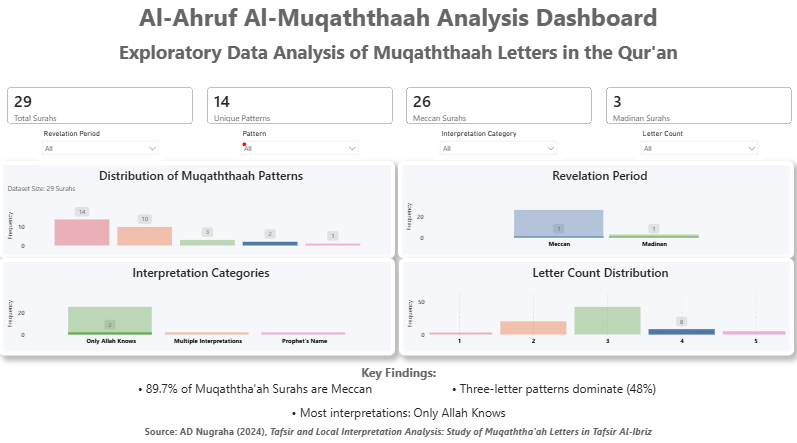

What the dashboard file says about the page in this screenshot:
{"tool":"powerbi","page":{"name":"Page 1","canvas":[1600,900],"ordinal":0},"visuals":[{"type":"clusteredColumnChart","title":"Distribution of Muqaththaah Patterns","fields":{"Category":["muqaththaah_dataset.Pattern"],"Y":["CountNonNull(muqaththaah_dataset.Pattern)"]},"box":[0.6,327.1,791.7,195],"z":0},{"type":"clusteredColumnChart","title":"Revelation Period","fields":{"Category":["muqaththaah_dataset.Revelation_Period"],"Y":["CountNonNull(muqaththaah_dataset.Revelation_Period)"]},"box":[799,327.1,791.7,195],"z":1000},{"type":"clusteredColumnChart","title":"Interpretation Categories","fields":{"Category":["muqaththaah_dataset.Interpretation_Category"],"Y":["CountNonNull(muqaththaah_dataset.Interpretation_Category)"]},"box":[0.6,522.1,791.7,195],"z":2000},{"type":"clusteredColumnChart","title":"Letter Count Distribution","fields":{"Category":["muqaththaah_dataset.Letter_Count"],"Y":["Sum(muqaththaah_dataset.Letter_Count)"]},"box":[800.6,522.1,790,195],"z":3000},{"type":"textbox","box":[252.5,0,1093.3,78.3],"z":5000},{"type":"textbox","box":[222.5,77.5,1152.5,62.5],"z":6000},{"type":"textbox","box":[270,850,1058,50],"z":7000},{"type":"cardVisual","fields":{"Data":["muqaththaah_dataset.Total Surahs"]},"box":[0,164,404,106],"z":8000},{"type":"cardVisual","fields":{"Data":["muqaththaah_dataset.Unique Patterns"]},"box":[400,164,404,106],"z":9000},{"type":"cardVisual","fields":{"Data":["muqaththaah_dataset.Meccan Surahs"]},"box":[798,164,404,106],"z":10000},{"type":"cardVisual","fields":{"Data":["muqaththaah_dataset.Madinan Surahs"]},"box":[1198,164,404,106],"z":11000},{"type":"textbox","box":[60,728.3,1478.3,140],"z":12000},{"type":"slicer","fields":{"Values":["muqaththaah_dataset.Revelation_Period"]},"box":[75,260,253.3,66.7],"z":13000},{"type":"slicer","fields":{"Values":["muqaththaah_dataset.Pattern"]},"box":[473.3,260,255,65],"z":14000},{"type":"slicer","fields":{"Values":["muqaththaah_dataset.Letter_Count"]},"box":[1273.3,260,254.3,65.7],"z":14002},{"type":"slicer","fields":{"Values":["muqaththaah_dataset.Interpretation_Category"]},"box":[871.7,260,254.3,65.7],"z":14003}]}

Visuals, with their boxes in screenshot pixels (x1, y1, x2, y2), scaled from the page's 1600x900 canvas onto the 797x443 screenshot:
"Distribution of Muqaththaah Patterns" clusteredColumnChart: pyautogui.locateOnScreen(0, 161, 395, 257)
"Revelation Period" clusteredColumnChart: pyautogui.locateOnScreen(398, 161, 792, 257)
"Interpretation Categories" clusteredColumnChart: pyautogui.locateOnScreen(0, 257, 395, 353)
"Letter Count Distribution" clusteredColumnChart: pyautogui.locateOnScreen(399, 257, 792, 353)
textbox: pyautogui.locateOnScreen(126, 0, 670, 39)
textbox: pyautogui.locateOnScreen(111, 38, 685, 69)
textbox: pyautogui.locateOnScreen(134, 418, 662, 442)
cardVisual - muqaththaah_dataset.Total Surahs: pyautogui.locateOnScreen(0, 81, 201, 133)
cardVisual - muqaththaah_dataset.Unique Patterns: pyautogui.locateOnScreen(199, 81, 400, 133)
cardVisual - muqaththaah_dataset.Meccan Surahs: pyautogui.locateOnScreen(398, 81, 599, 133)
cardVisual - muqaththaah_dataset.Madinan Surahs: pyautogui.locateOnScreen(597, 81, 796, 133)
textbox: pyautogui.locateOnScreen(30, 358, 766, 427)
slicer - muqaththaah_dataset.Revelation_Period: pyautogui.locateOnScreen(37, 128, 164, 161)
slicer - muqaththaah_dataset.Pattern: pyautogui.locateOnScreen(236, 128, 363, 160)
slicer - muqaththaah_dataset.Letter_Count: pyautogui.locateOnScreen(634, 128, 761, 160)
slicer - muqaththaah_dataset.Interpretation_Category: pyautogui.locateOnScreen(434, 128, 561, 160)
